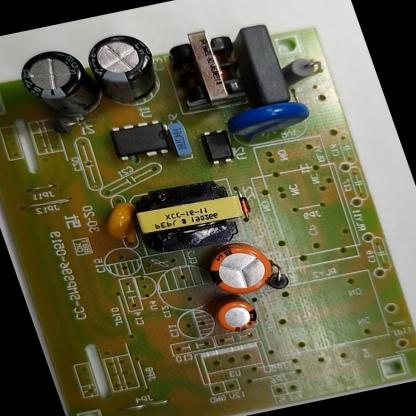Cap1: (193, 233, 284, 301)
Cap2: (197, 286, 266, 340)
Cap3: (74, 23, 176, 118)
Cap4: (6, 37, 113, 134)
MOSFET: (101, 111, 178, 167)
Mov: (210, 92, 322, 152)
Resistor: (272, 50, 328, 91)
Transformer: (122, 172, 258, 258), (153, 22, 258, 116)
